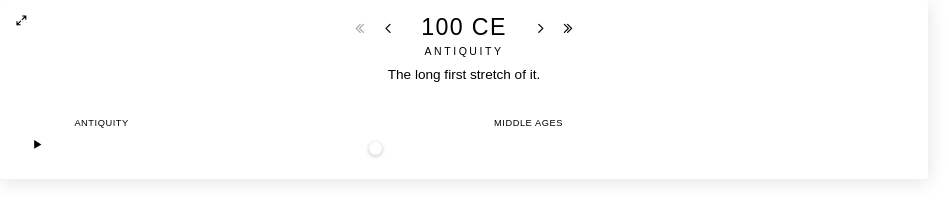
Test case: Timeline precision controls › keeps editing and says why when the year makes no sense
The image size is (949, 208).
Click the button with aria-label "type a year" at [464, 28], box top-left (404, 14), bottom-right (524, 42)
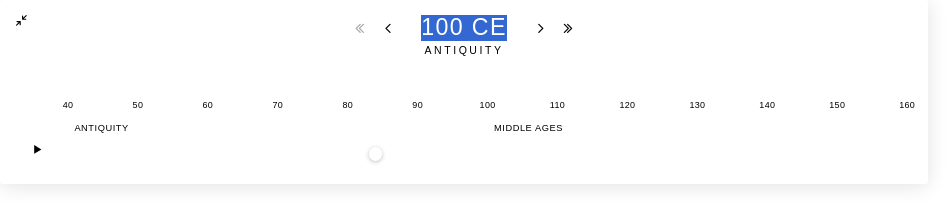
Replace the text in the field with test id "year-input" with "soon" at [464, 28], box top-left (404, 14), bottom-right (524, 42)
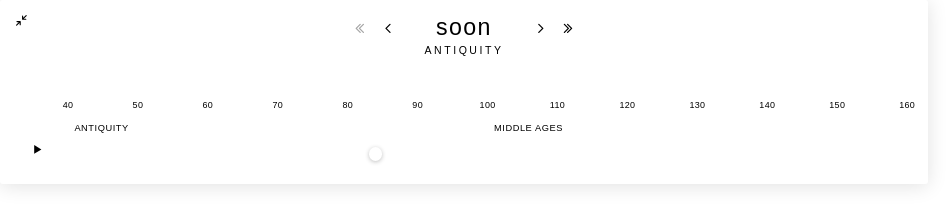
Press Enter in the field with test id "year-input", box top-left (404, 14), bottom-right (524, 42)
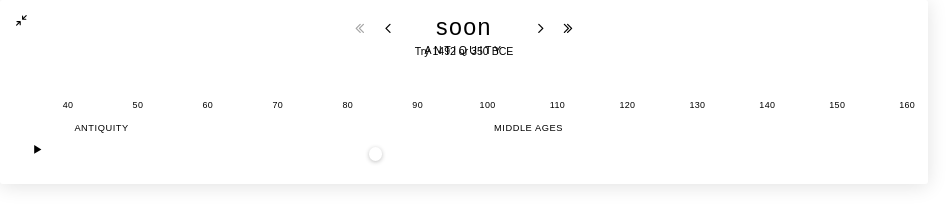
Now the message reads "Try 1492 or 350 BCE", box top-left (415, 45), bottom-right (513, 57)
Press Escape in the field with test id "year-input", box top-left (404, 14), bottom-right (524, 42)
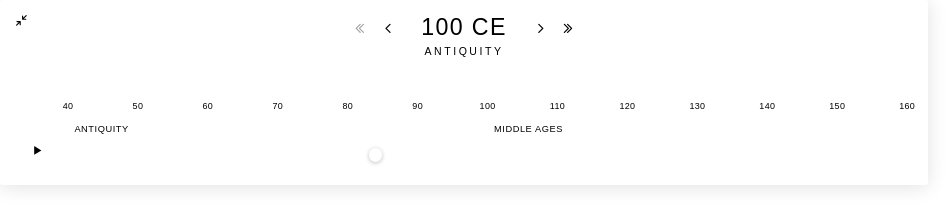
Now the field with test id "year-input" is gone
